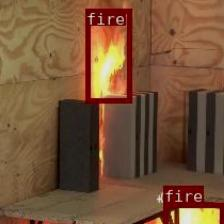fire: (85, 8, 130, 102), (162, 202, 223, 224)
